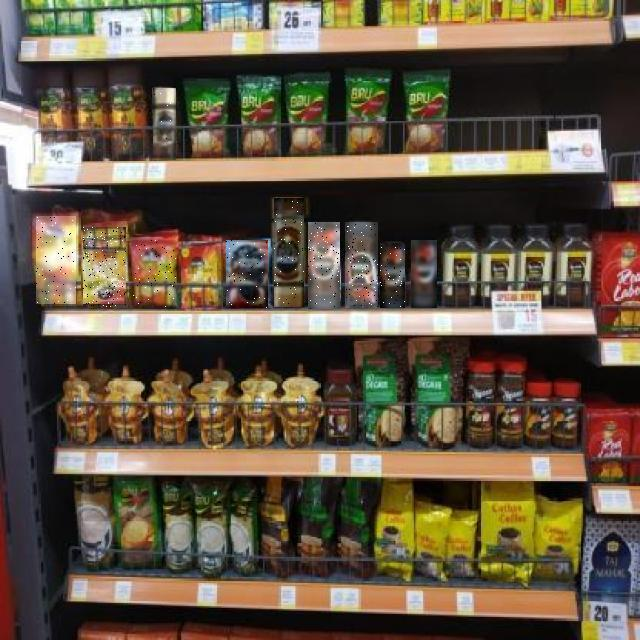Coffee: (36, 216, 76, 304), (83, 228, 126, 308), (274, 198, 304, 307), (132, 240, 176, 309), (226, 241, 268, 309), (345, 223, 378, 309), (308, 222, 340, 309), (411, 241, 437, 309), (153, 88, 176, 160), (380, 243, 405, 308)
